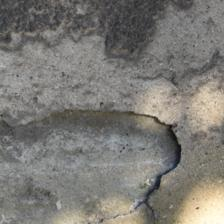Crack: (37, 56, 148, 126), (45, 160, 122, 196)
